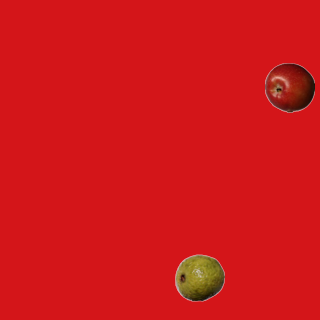Apple Braeburn: (264, 62, 314, 112)
Guava: (174, 252, 224, 302)
